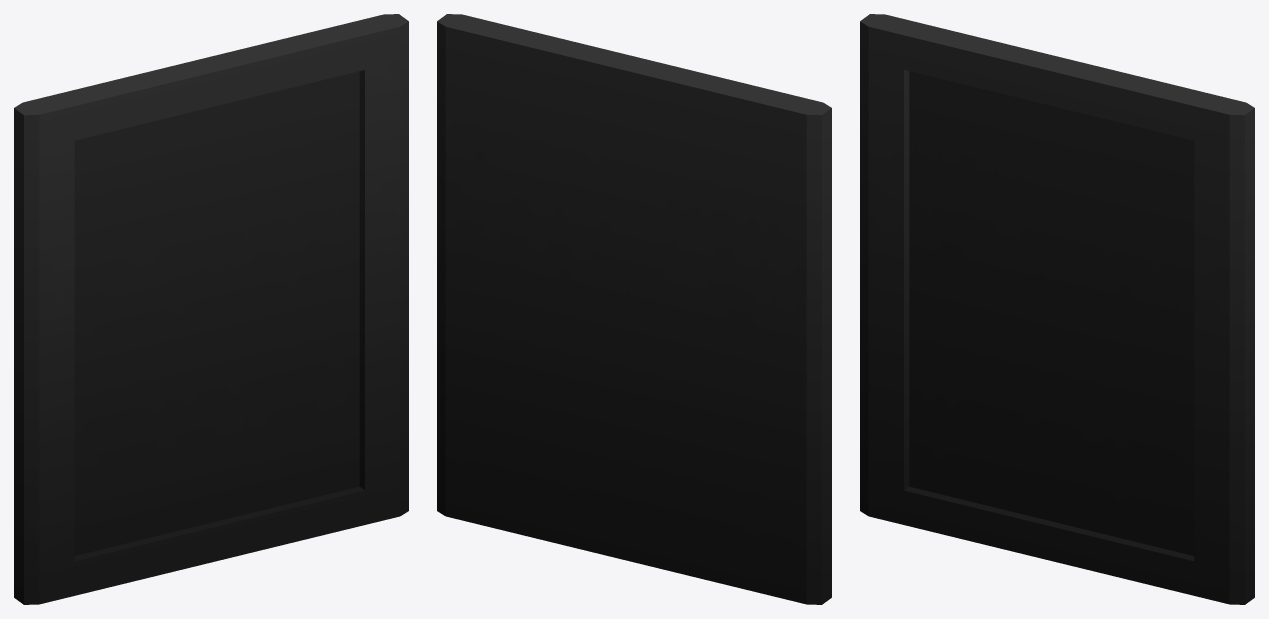
Rendered from BeerFridge_Door.fbx.
3 renders of one model, left to right at view 1: azimuth 30°, elevation 25°; view 2: azimuth 150°, elevation 25°; view 3: azimuth 330°, elevation 25°, orthographic.
Parts seen in each view (by area): view 1: BeerFridge_Door; view 2: BeerFridge_Door; view 3: BeerFridge_Door.
Part boxes in pixels (x1,y1,x2,y2): BeerFridge_Door: (14, 14, 408, 604); BeerFridge_Door: (437, 14, 831, 604); BeerFridge_Door: (860, 14, 1254, 604).
Bounding box in the file's own units: 56 × 68.08 × 4.21.
